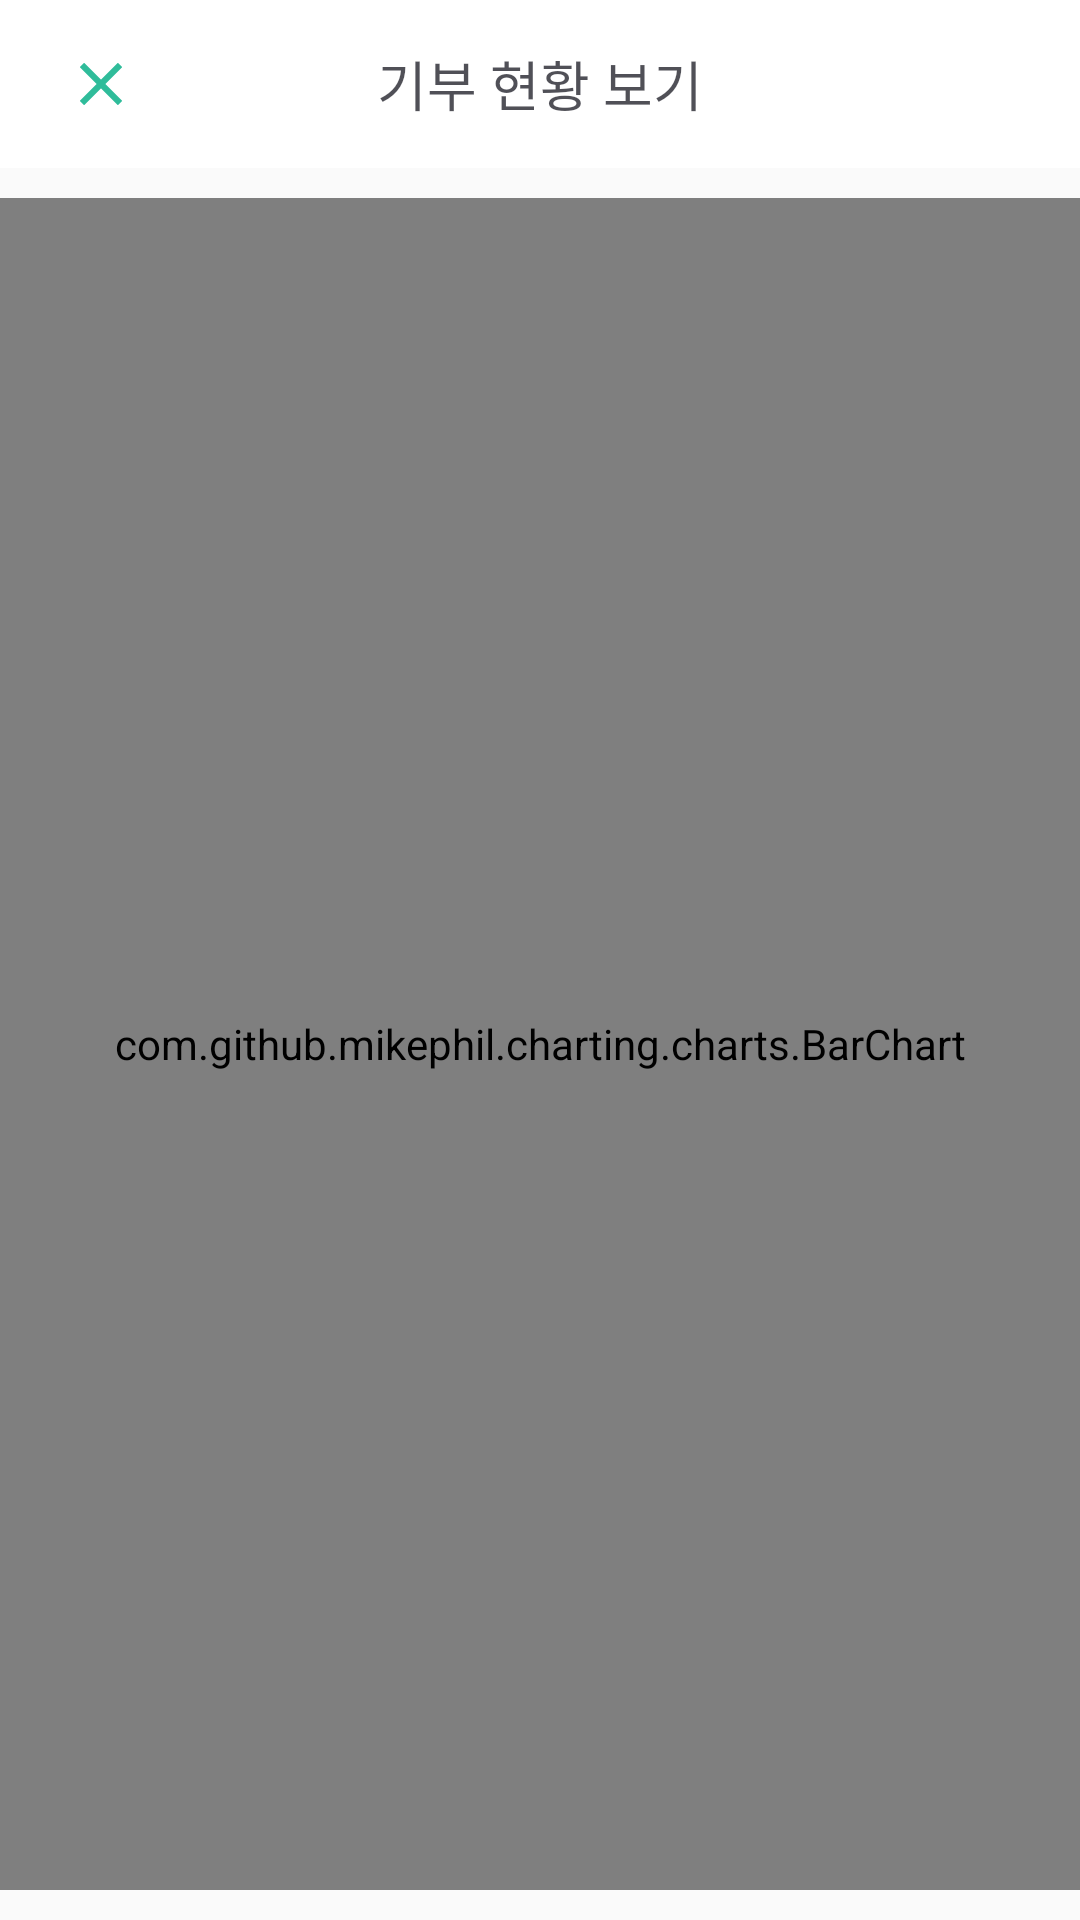

Locate icon controls on the screen. Image size 1080w x 1920h, boxes as (x1, y1, x2, y2).
close: (80, 63, 122, 105)
